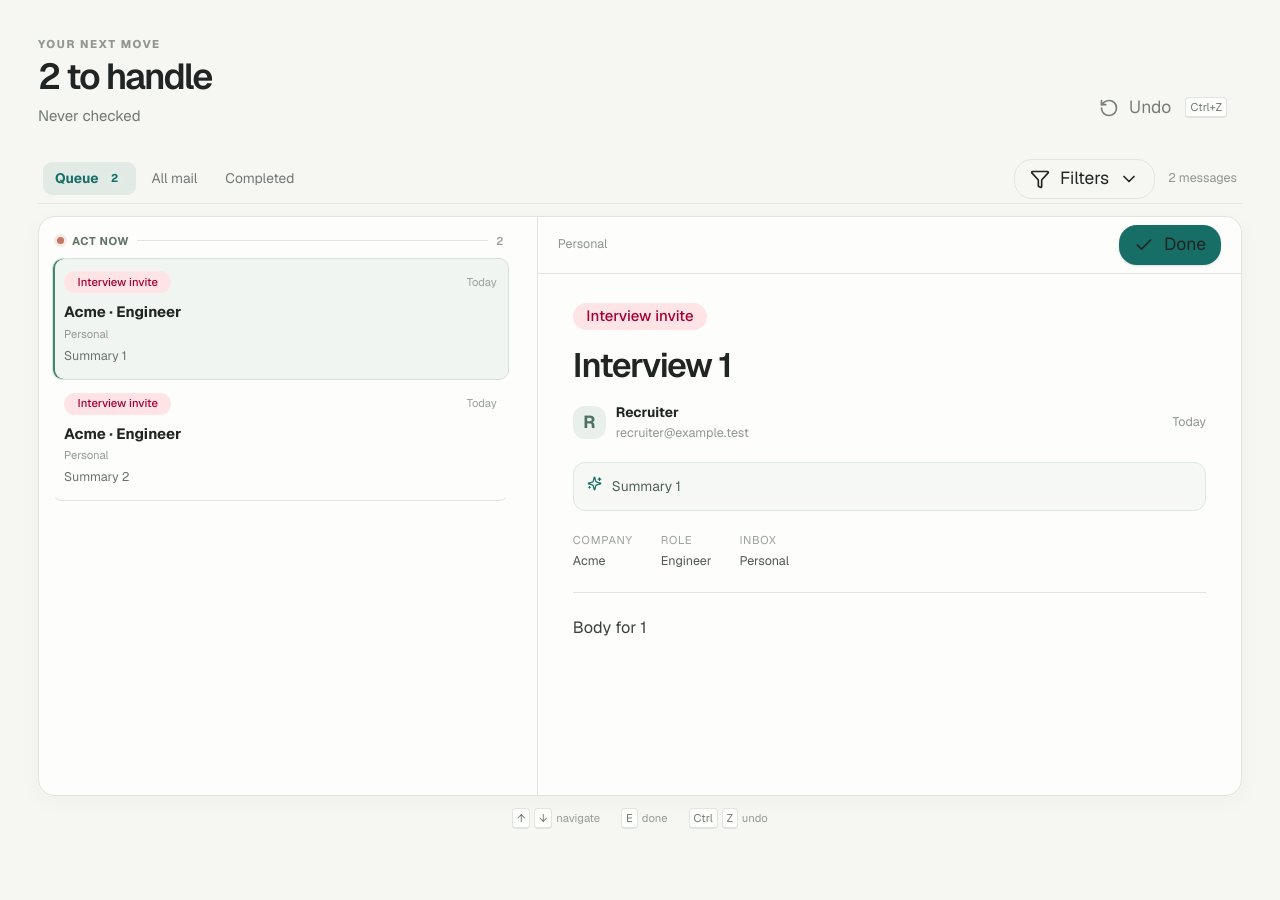
Scenario: triage interactions › advances after Done and restores selection when the mutation fails
Expected: the text "Body for 1" is shown, [573,617,647,638]
Click the button "Done": (1170,244) [1119,224,1221,264]
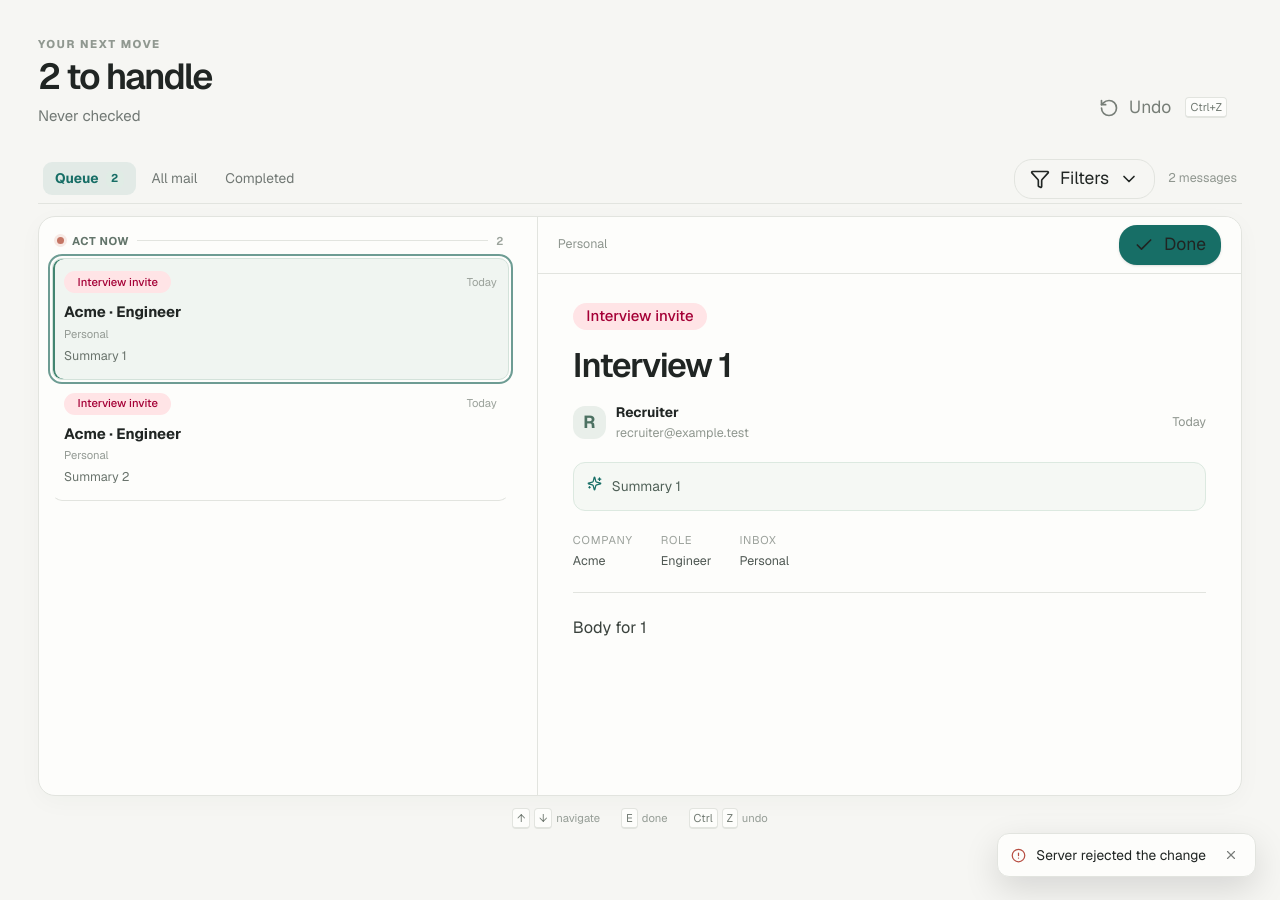
Result: the text "Server rejected the change" is shown at [1036,845,1206,865]
